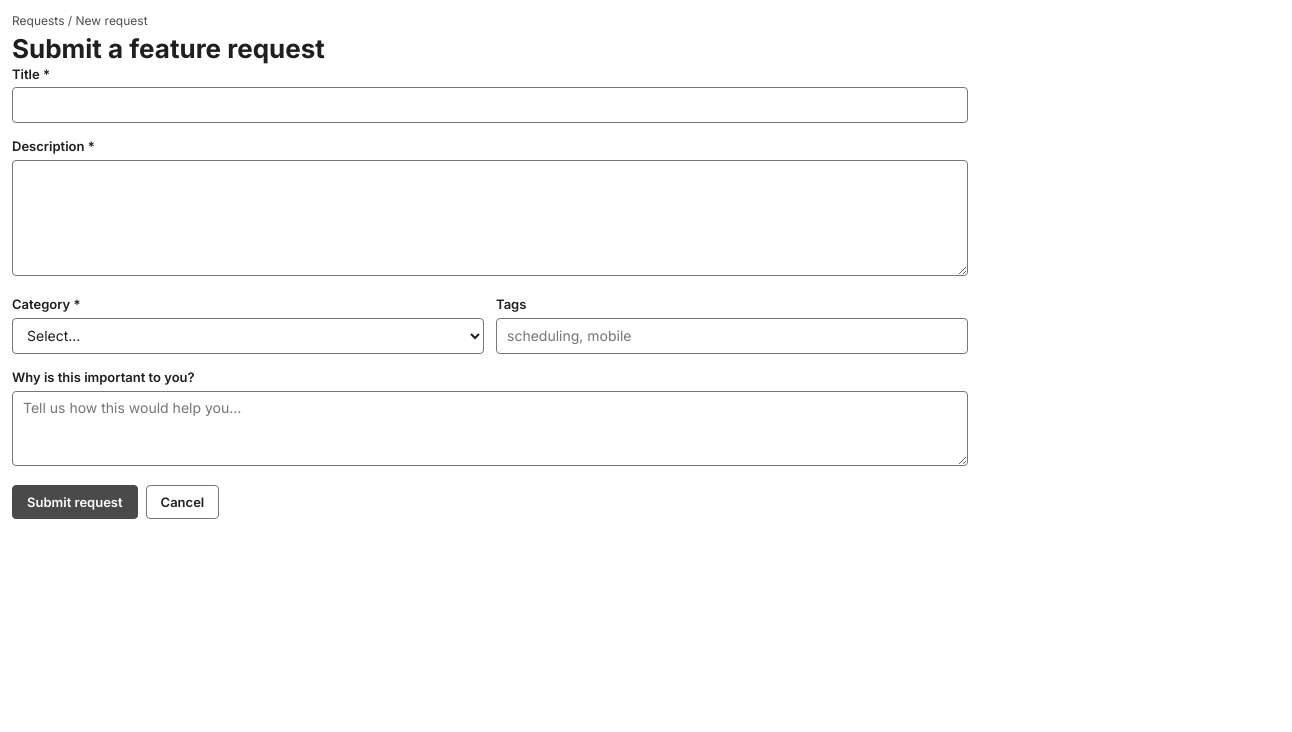
Test: Submit a feature request › submits and confirms in My Requests
Type "Dark mode" into the field labelled "Title *" at (490, 105), box [12,87,968,123]
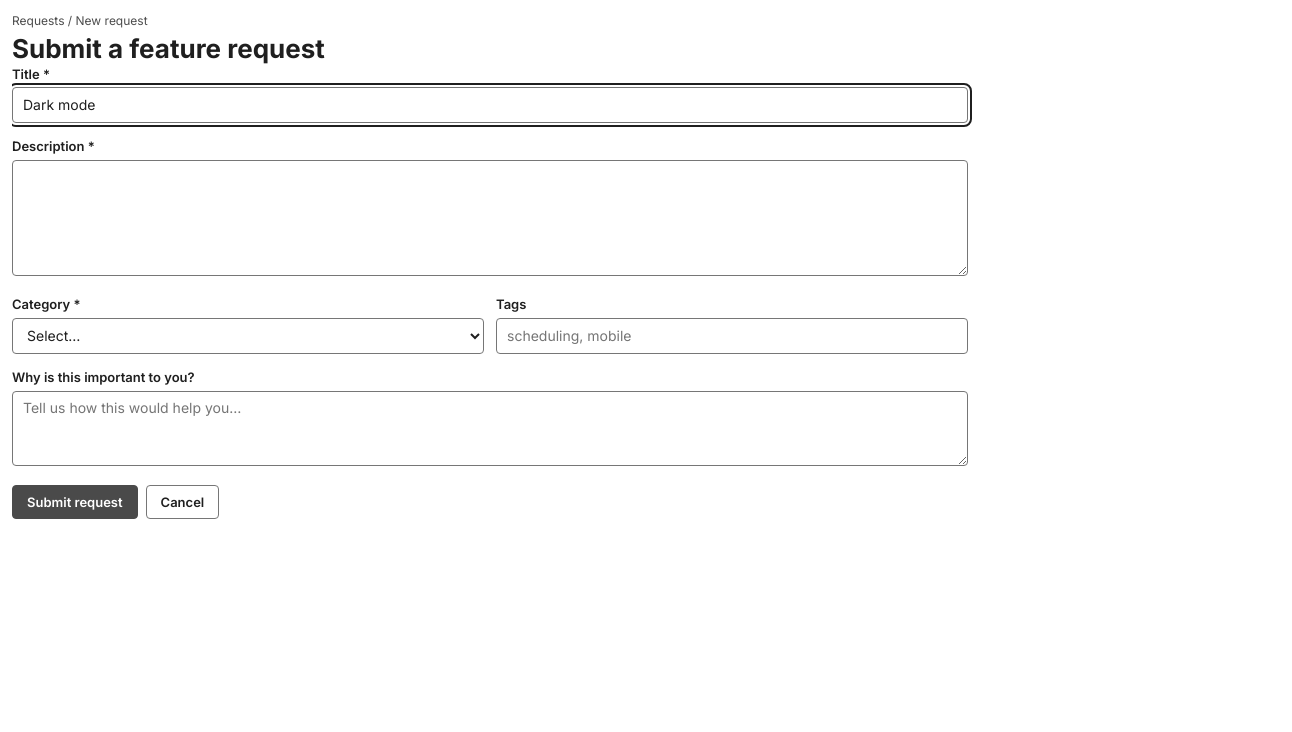
Type "Easier at night." into the text box labelled "Description *" at (490, 218), box [12,160,968,276]
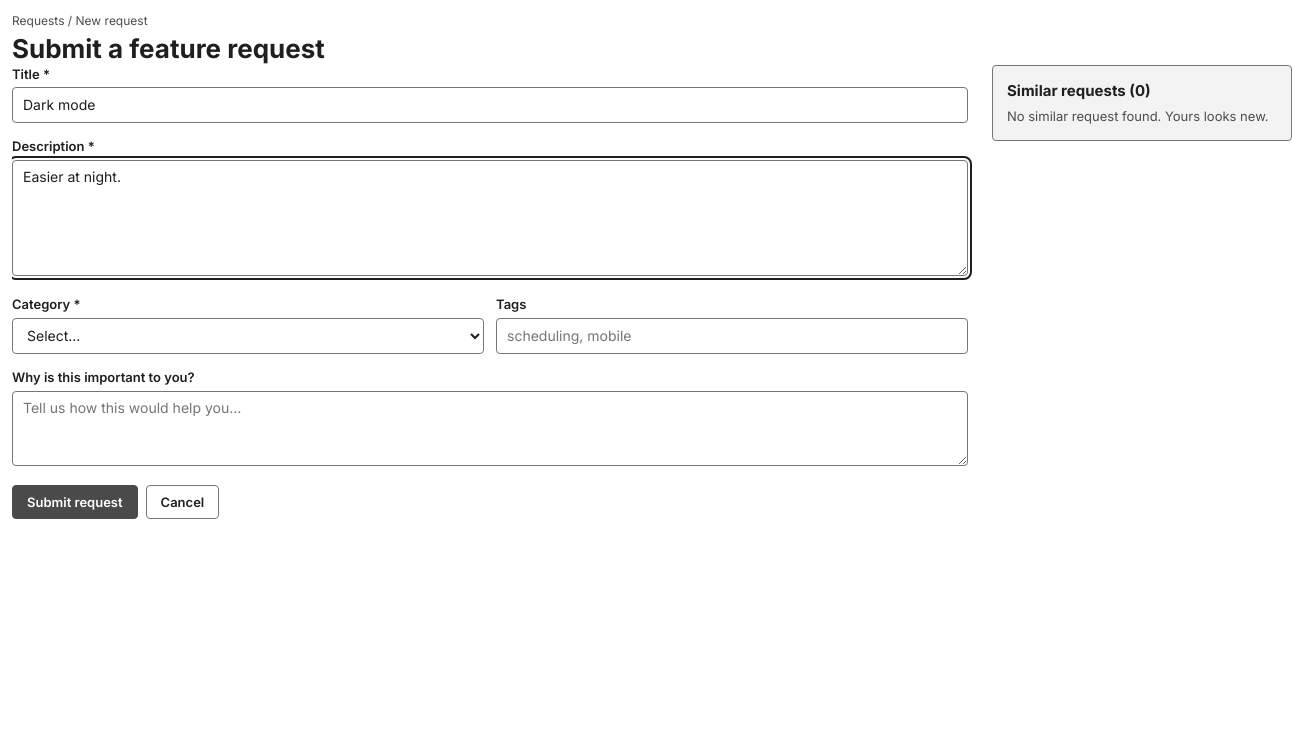
Select "Ordering" in the dropdown labelled "Category *" at (248, 336), box [12,318,484,354]
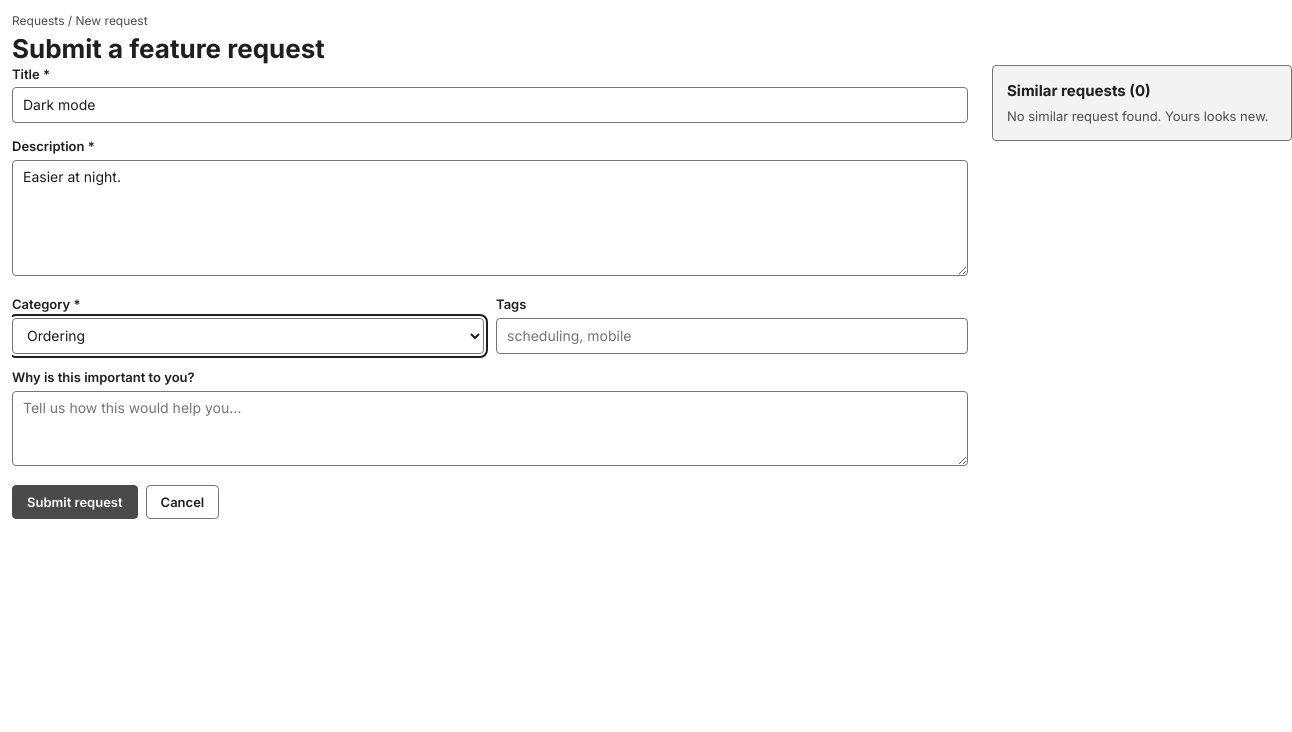
Type "theme, #night" into the field labelled "Tags" at (732, 336), box [496,318,968,354]
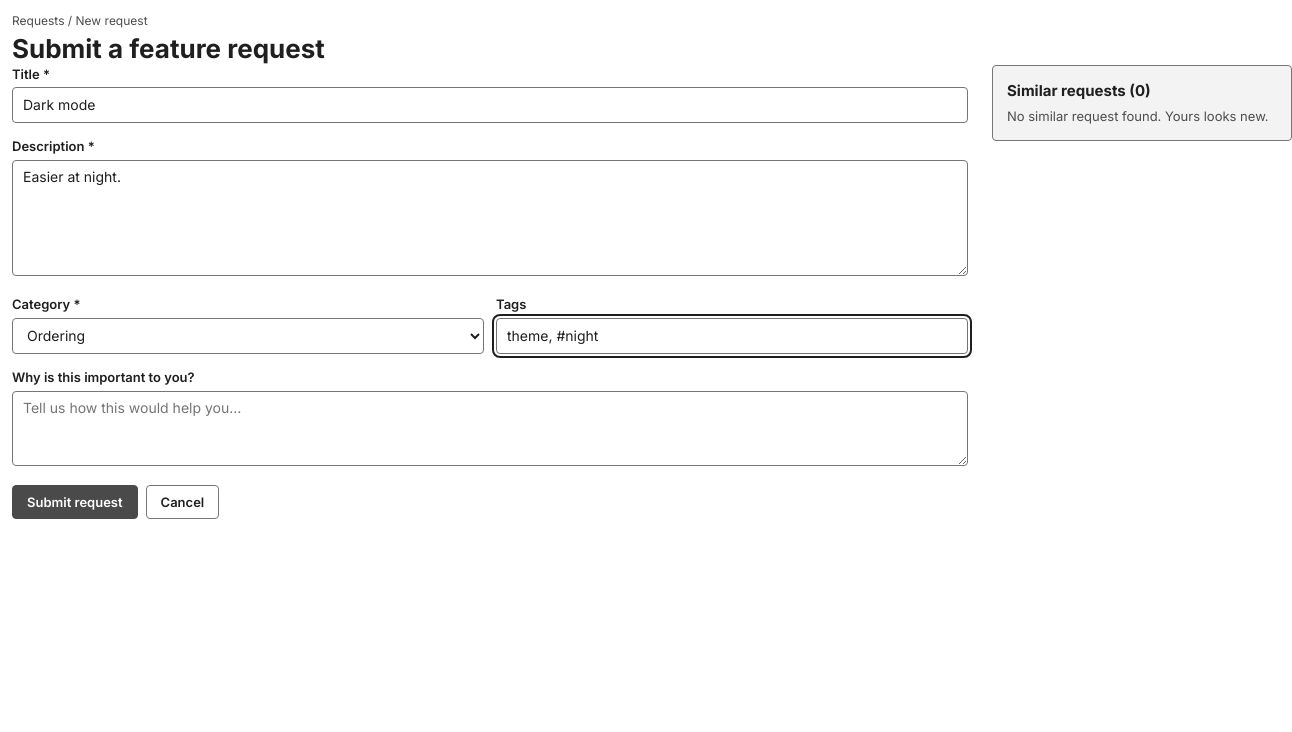
Click the button "Submit request" at (75, 502), box [12,485,138,519]
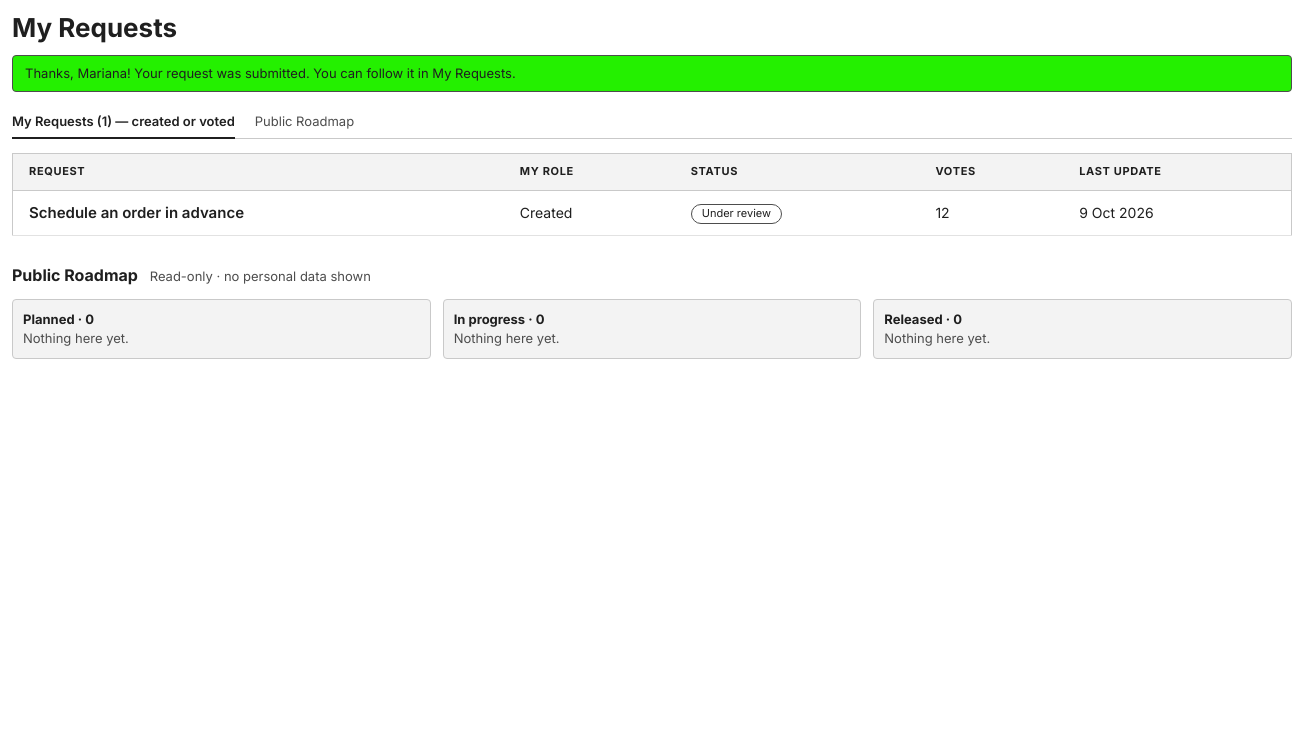
Check: the message reads "Thanks, Mariana! Your request was submitted. You can follow it in My Requests.", box [25,65,516,81]
